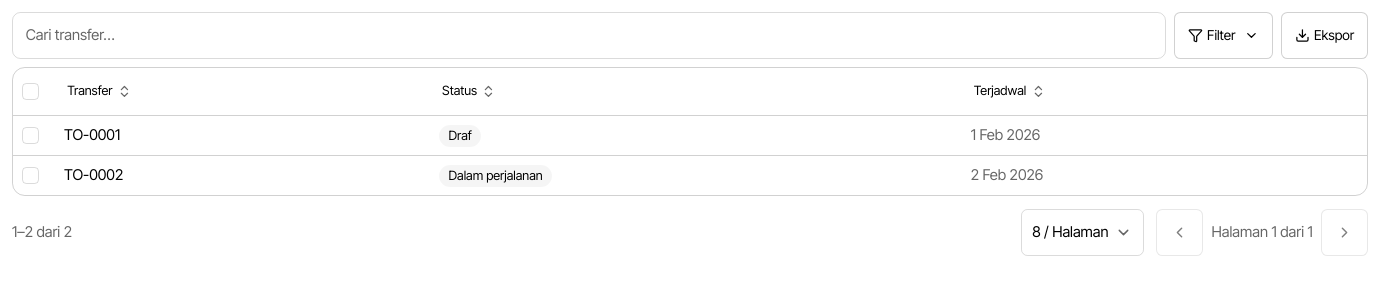
Scenario: TransfersSection › filters rows through the search box
Expected: the link "TO-0001" is shown, [64,126,120,144]
In the search field with placeholder "Cari transfer…": (589, 35) [12,12,1166,59], type "TO-0002"
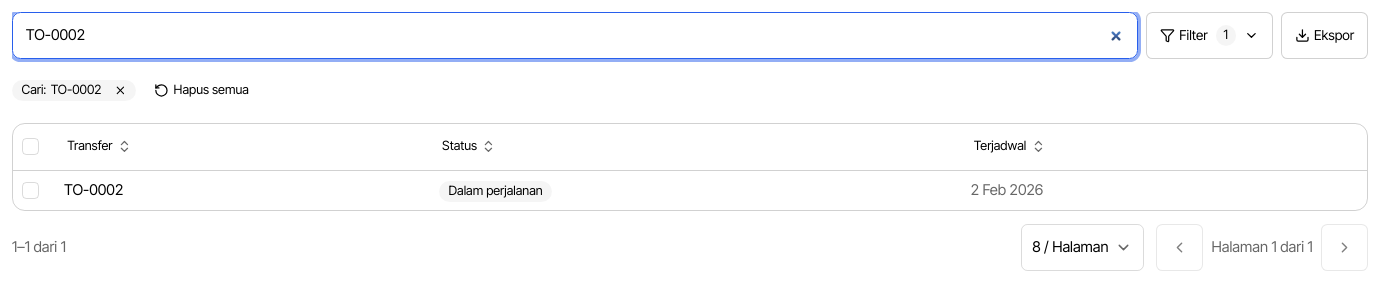
Expected: the text "TO-0002" is shown, [51,82,101,99]
Expected: the link "TO-0001" is gone
